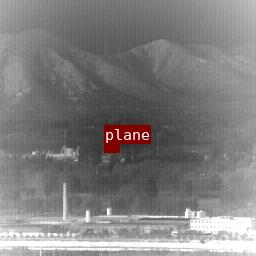plane: (104, 144, 119, 152)
